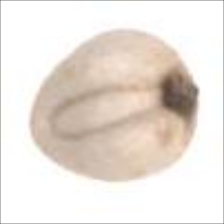L5: (48, 81, 163, 140), (160, 62, 202, 124), (28, 97, 51, 154)
L6: (26, 26, 201, 185)
